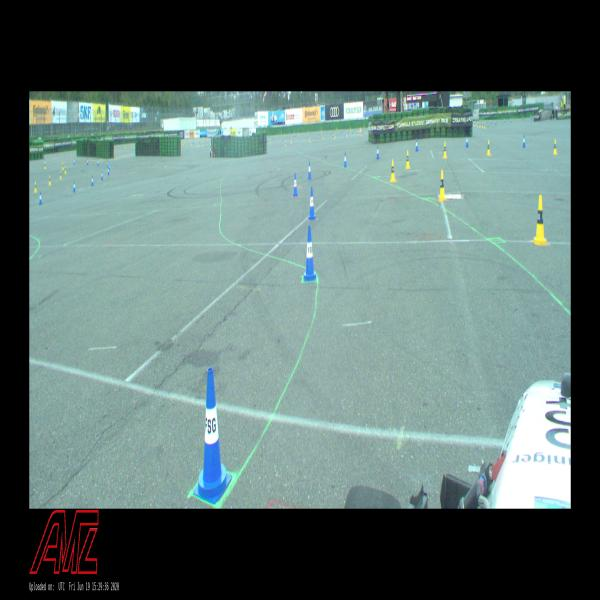blue_cone: (194, 368, 231, 503), (303, 226, 316, 281), (308, 186, 316, 220), (293, 173, 298, 196), (308, 161, 312, 179), (522, 134, 526, 148), (415, 138, 419, 152), (344, 152, 347, 168), (376, 145, 379, 159), (39, 191, 42, 205), (72, 182, 76, 192), (91, 175, 94, 186), (466, 134, 468, 148), (101, 171, 103, 181), (108, 163, 110, 172), (108, 167, 110, 175)
yellow_cone: (533, 194, 548, 245), (438, 169, 446, 201), (390, 159, 396, 182), (405, 151, 410, 169), (443, 142, 447, 158), (553, 140, 557, 154), (487, 139, 490, 156), (34, 182, 37, 192), (59, 170, 62, 180), (49, 176, 51, 186), (64, 165, 66, 174)
